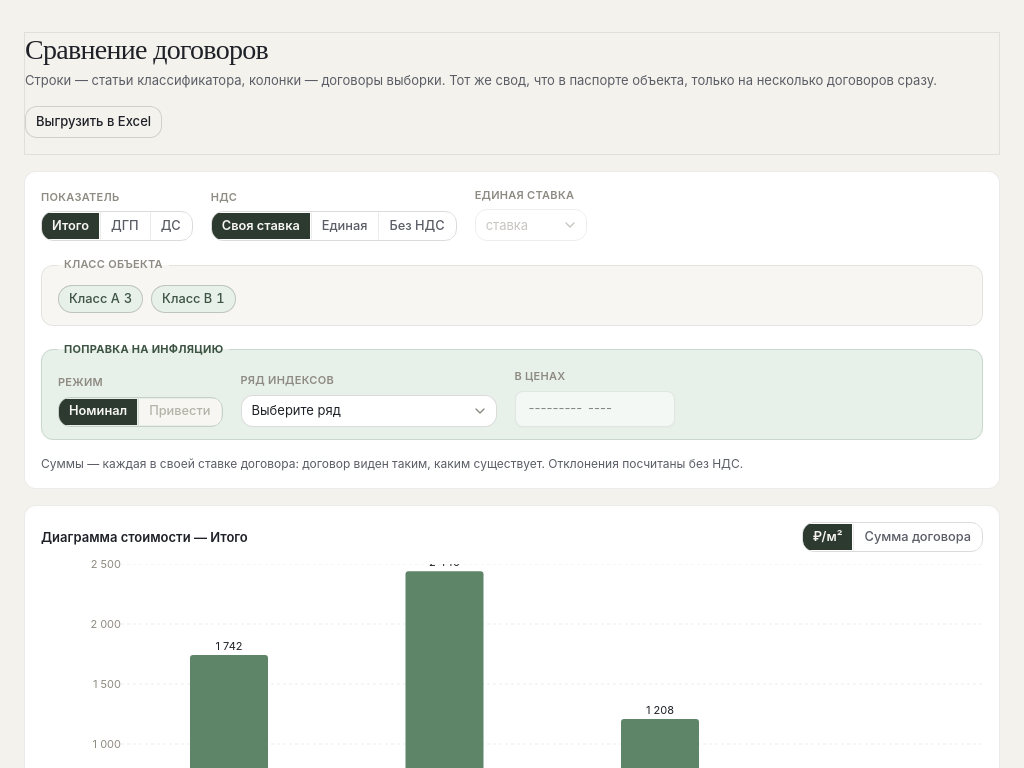
Test: ComparePage: поправка на инфляцию › включение пишет ряд и РАЗРЕШЁННЫЙ СЕРВЕРОМ месяц в адрес
The image size is (1024, 768).
Expected: the text with test id "comparison-caption" is shown, [41,456,743,471]
Click the dropdown named "Ряд индексов": (368, 411) [240,395,496,427]
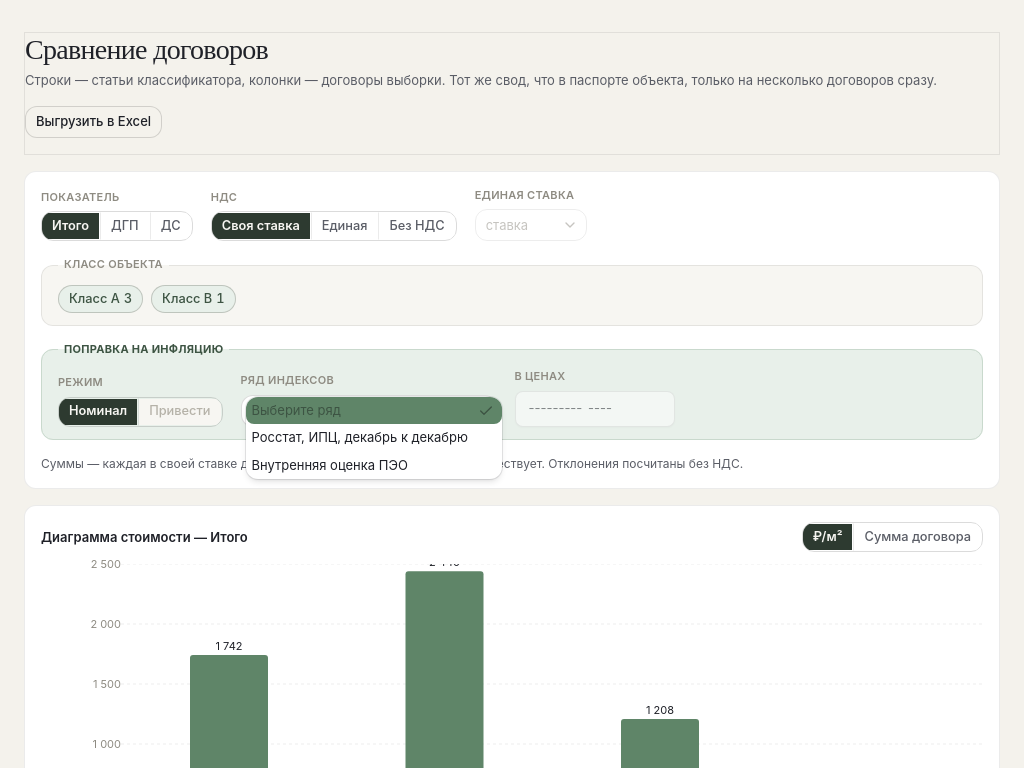
Click the option "Росстат, ИПЦ, декабрь к декабрю": (360, 437) [252,429,468,445]
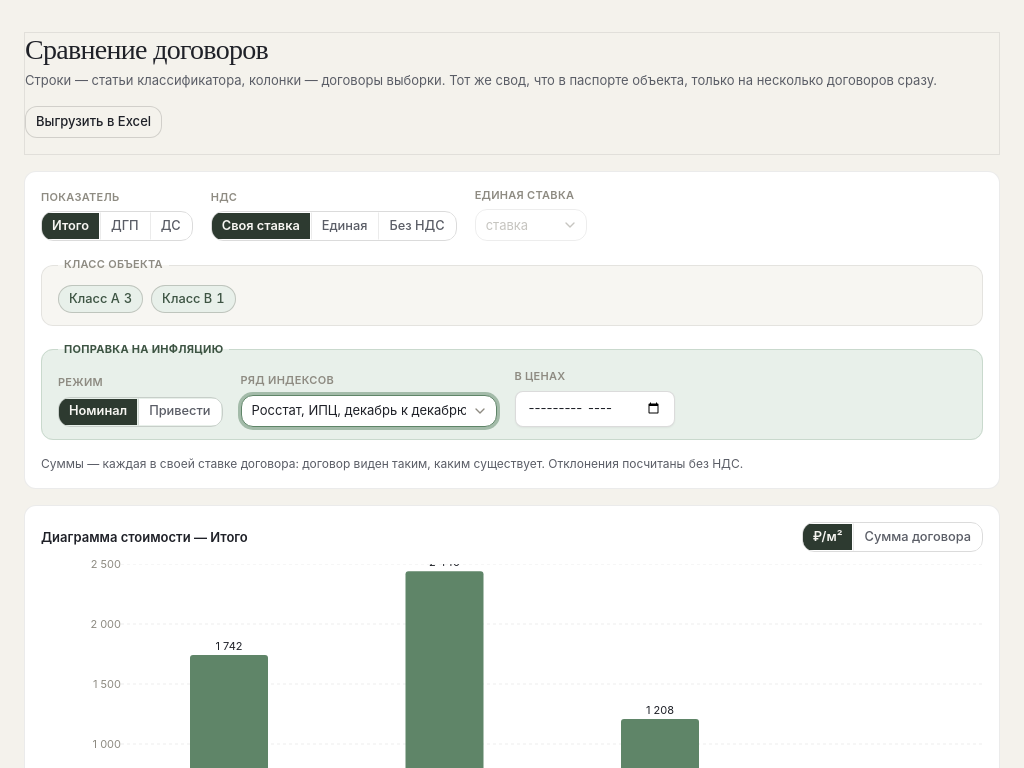
Click the button "Привести": (180, 412) [138,398,222,426]
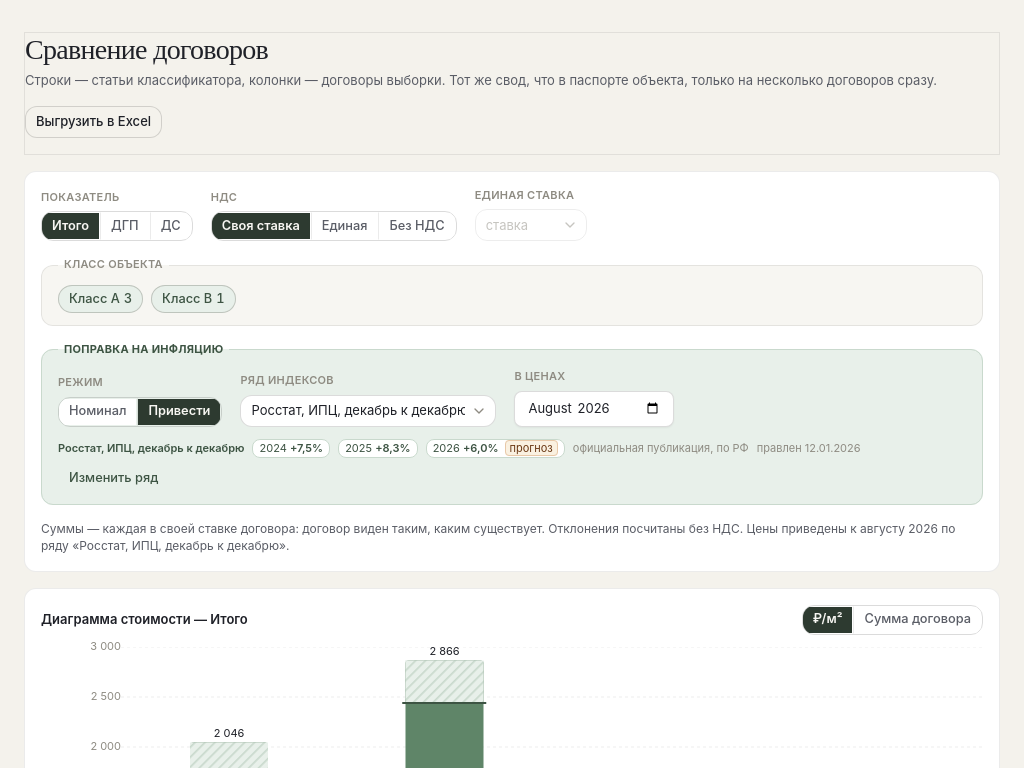
Expected: the field labelled "В ценах" holds "2026-08", [514,391,674,427]
